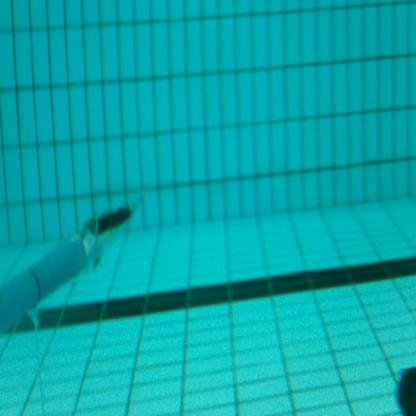tail: (79, 192, 142, 284)
